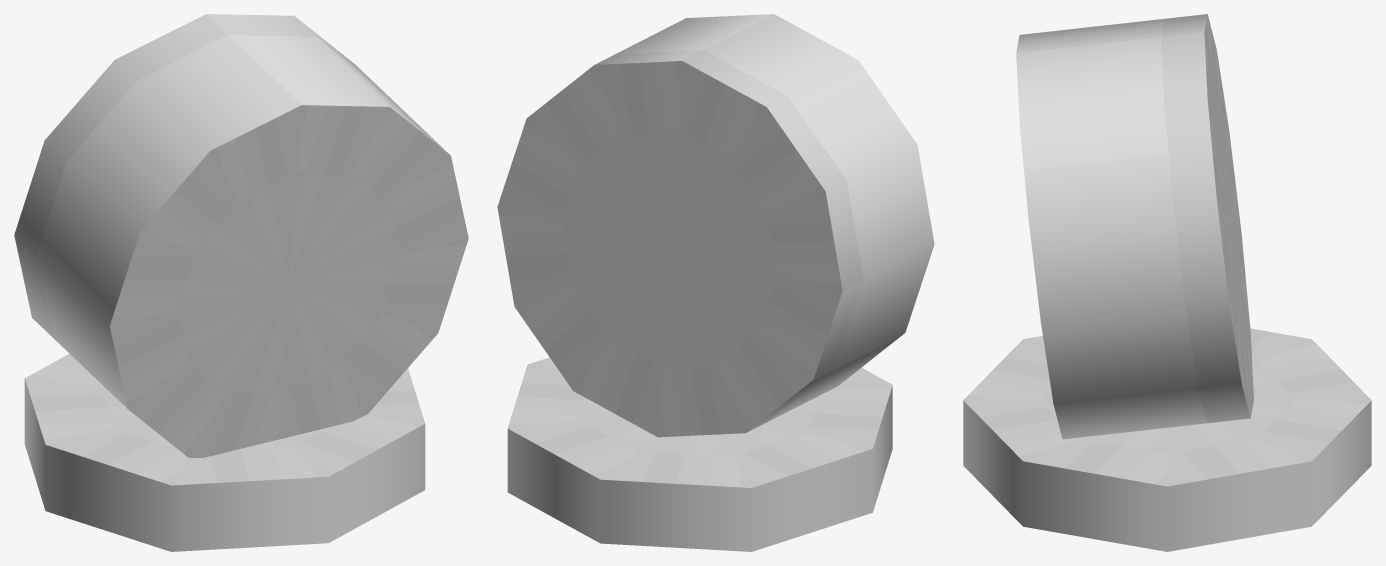
The model's file is trusssignalarm_stub_24.obj.
3 views of the same model, side by side, from view 1: azimuth 30°, elevation 25°; view 2: azimuth 150°, elevation 25°; view 3: azimuth 270°, elevation 25° (orthographic). The views are drawn at different scales.
Visible parts, largest first — view 1: trusssignalarm_stub_24; view 2: trusssignalarm_stub_24; view 3: trusssignalarm_stub_24.
Part boxes in pixels (<box>): trusssignalarm_stub_24: <box>14,14,468,551</box>; trusssignalarm_stub_24: <box>497,14,934,551</box>; trusssignalarm_stub_24: <box>963,14,1371,551</box>.
Size of the model in its own units: 0.35 by 0.4096 by 0.35.
